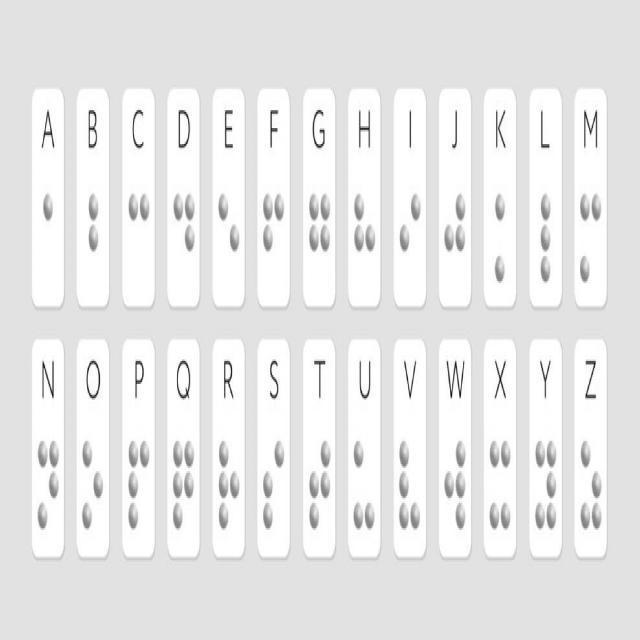braiile: (260, 429, 288, 540), (486, 431, 514, 540), (442, 424, 468, 540), (351, 184, 378, 294), (396, 429, 423, 538), (306, 427, 332, 538), (397, 182, 423, 291), (306, 186, 332, 294), (171, 186, 197, 292), (260, 186, 286, 292), (170, 434, 197, 536), (442, 184, 468, 289), (578, 184, 604, 289), (533, 433, 559, 538), (36, 431, 61, 540), (216, 189, 242, 291), (79, 431, 105, 533), (125, 431, 151, 533), (217, 431, 242, 536), (351, 434, 377, 534), (578, 436, 604, 536), (126, 185, 151, 282)
